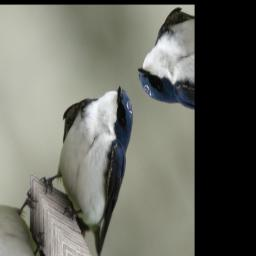Swallow: (23, 63, 174, 256)
